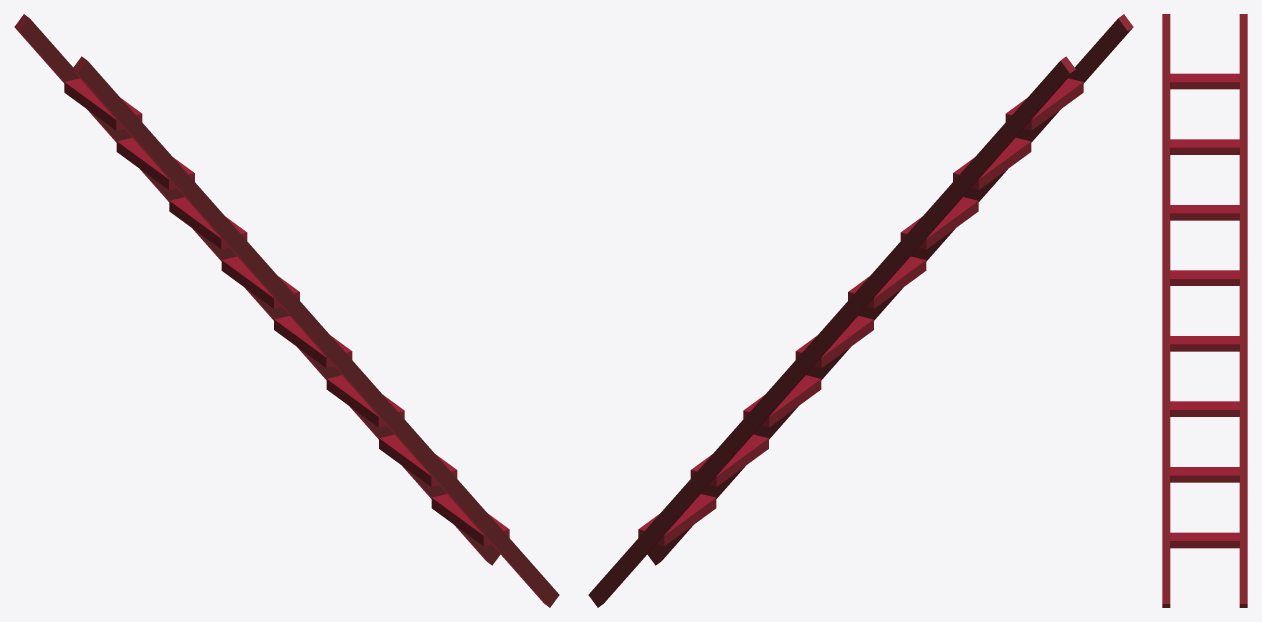
File: TB_CITY_BD_Stair_D.FBX
3 views of the same model, side by side, from view 1: azimuth 30°, elevation 25°; view 2: azimuth 150°, elevation 25°; view 3: azimuth 270°, elevation 25° (orthographic). The views are drawn at different scales.
Visible parts, largest first — view 1: TB_CITY_BD_Stair_D; view 2: TB_CITY_BD_Stair_D; view 3: TB_CITY_BD_Stair_D.
Boxes of the visible parts, left/top/right/bottom form: TB_CITY_BD_Stair_D: left=14, top=14, right=559, bottom=607; TB_CITY_BD_Stair_D: left=588, top=14, right=1133, bottom=607; TB_CITY_BD_Stair_D: left=1162, top=14, right=1247, bottom=607.
Size of the model in its own units: 3.77 by 4.93 by 0.8613.
